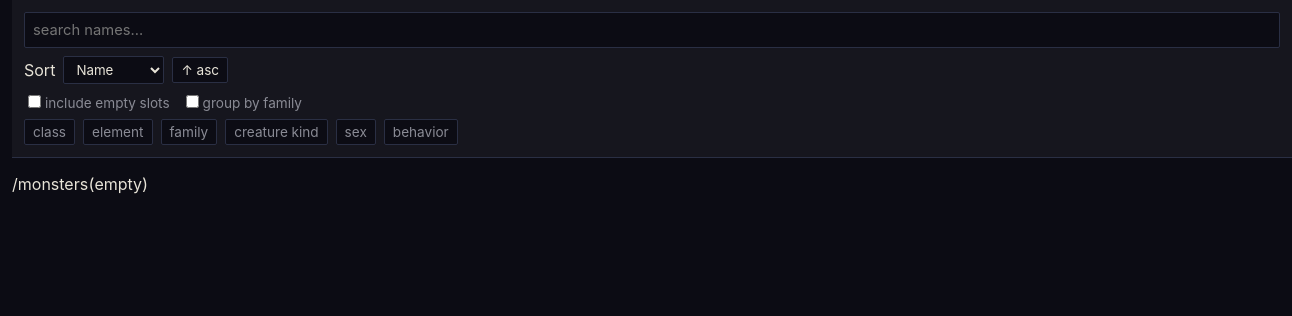
Scenario: MonsterFilters › renders a class filter with checkboxes for each known class
Click the heading "class". click: [50, 132]
box: [33,124,66,140]
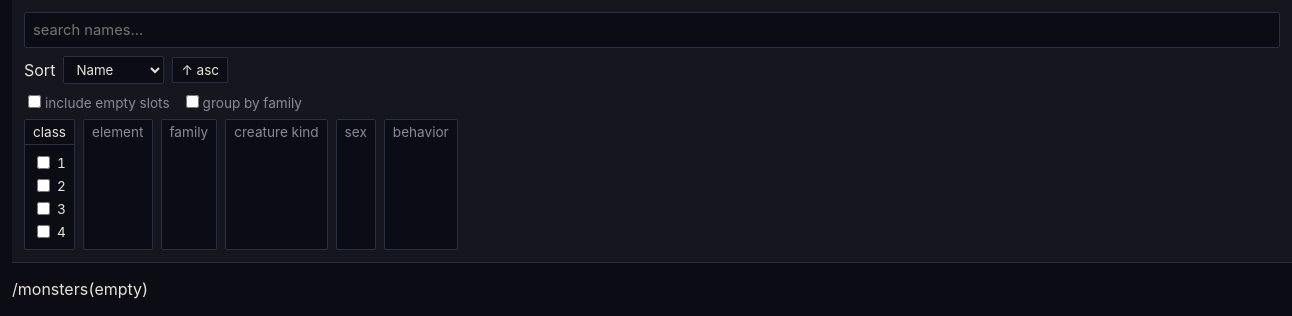
Now the checkbox named "class 1" is shown, box [37,156,50,169]
Now the checkbox named "class 2" is shown, box [37,179,50,192]
Now the checkbox named "class 3" is shown, box [37,202,50,215]
